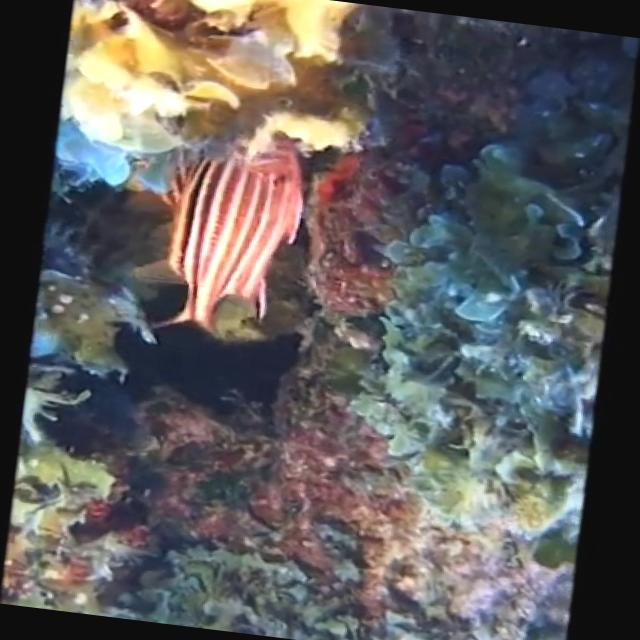Asker Baligi: (140, 117, 316, 348)
